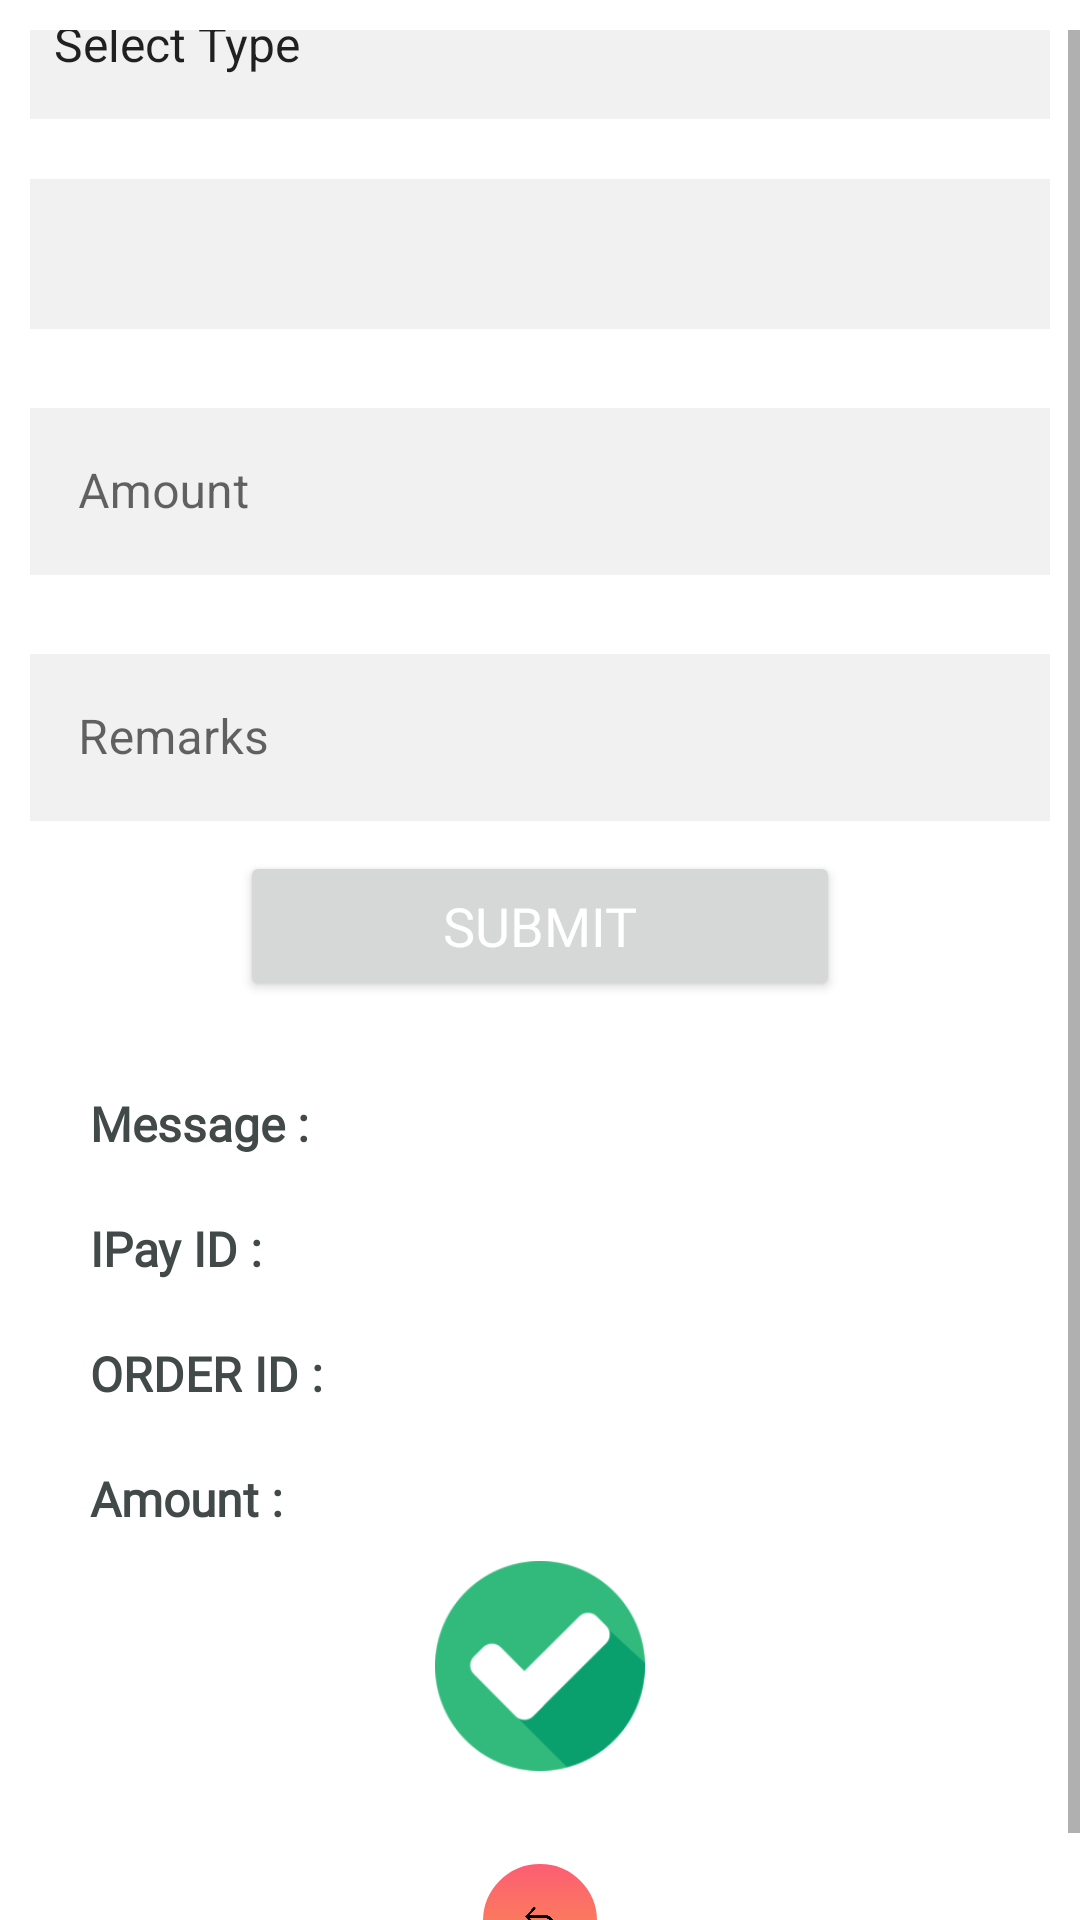

Named icons in this screenshot (1080px x 1920px) and their centers, [x,y]:
success: [540,1666]
